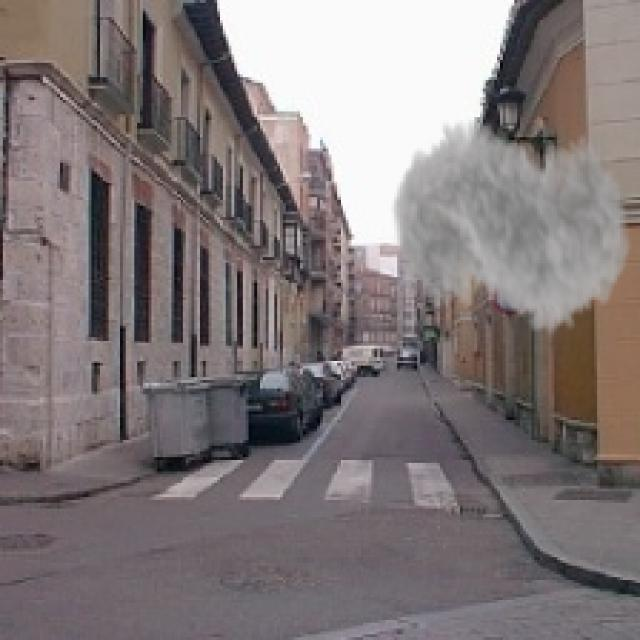Smoke: (392, 92, 632, 354)
